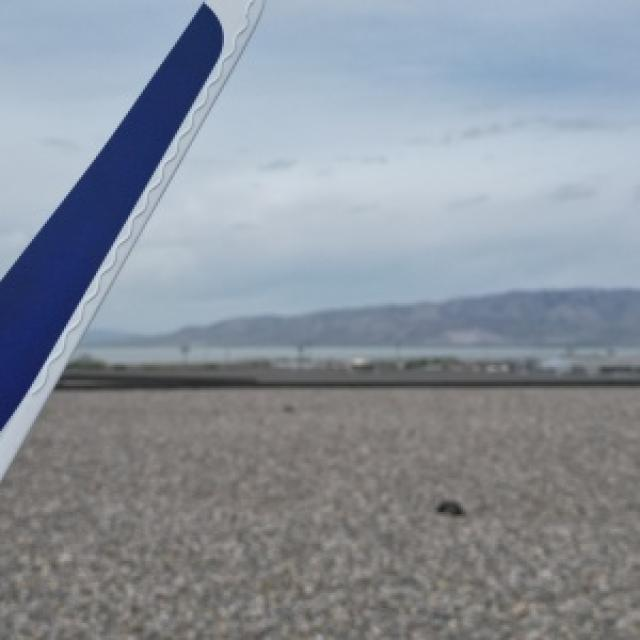healthy: (0, 0, 260, 474)
